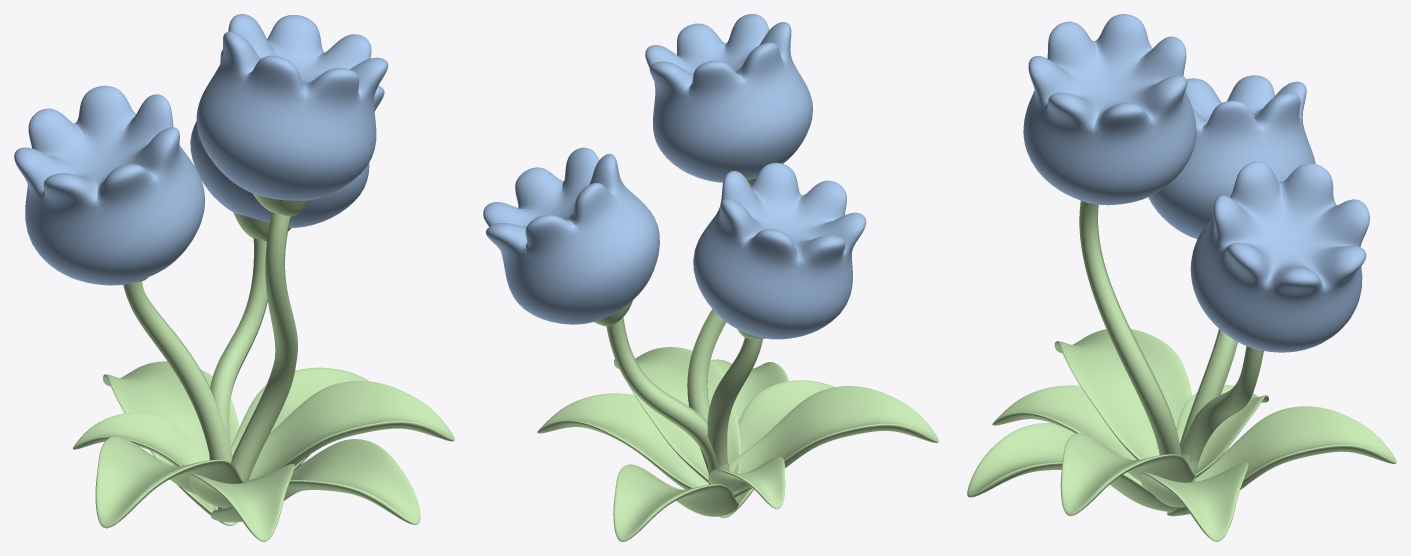
File: Blue.fbx
3 renders of one model, left to right at view 1: azimuth 30°, elevation 25°; view 2: azimuth 150°, elevation 25°; view 3: azimuth 270°, elevation 25°, orthographic. The views are drawn at different scales.
Visible parts, largest first — view 1: NurbsPath.012; view 2: NurbsPath.012; view 3: NurbsPath.012.
Part boxes in pixels (x1,y1,x2,y2): NurbsPath.012: [14, 14, 454, 541]; NurbsPath.012: [483, 14, 938, 541]; NurbsPath.012: [967, 14, 1396, 541].
Bounding box in the file's own units: 155 × 197 × 157.
